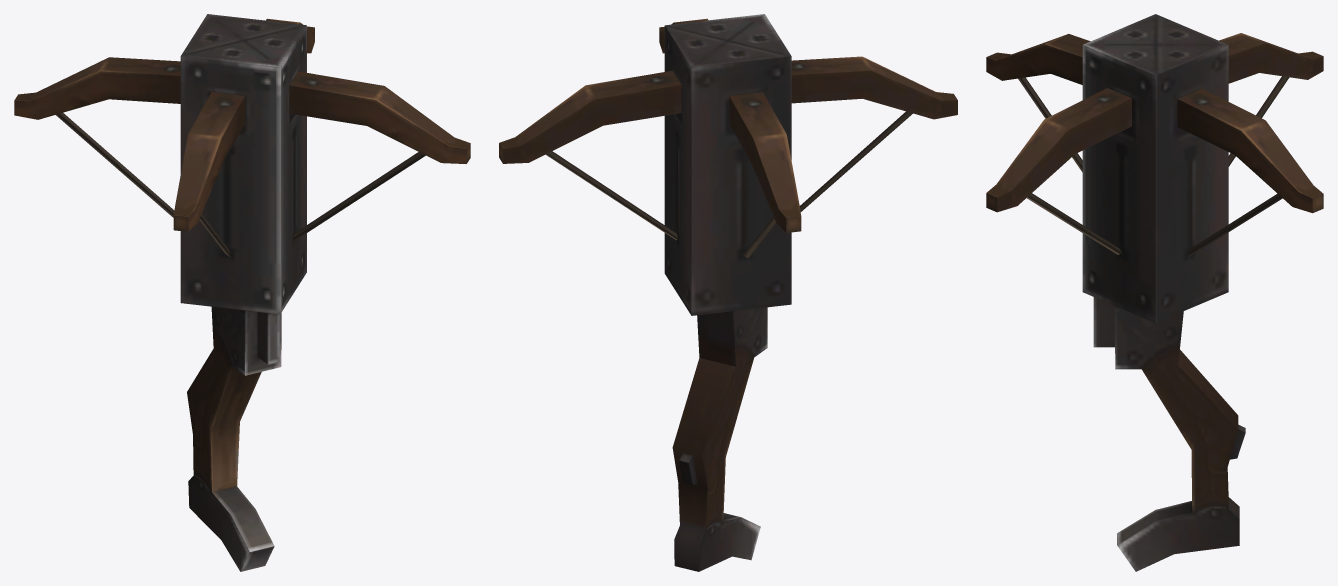
The model's file is crossbow18_508b999f.glb.
3 renders of one model, left to right at view 1: azimuth 30°, elevation 25°; view 2: azimuth 150°, elevation 25°; view 3: azimuth 270°, elevation 25°, orthographic.
Size of the model in its own units: 0.9771 by 1.62 by 0.9486.
1 material, 1 textured.
